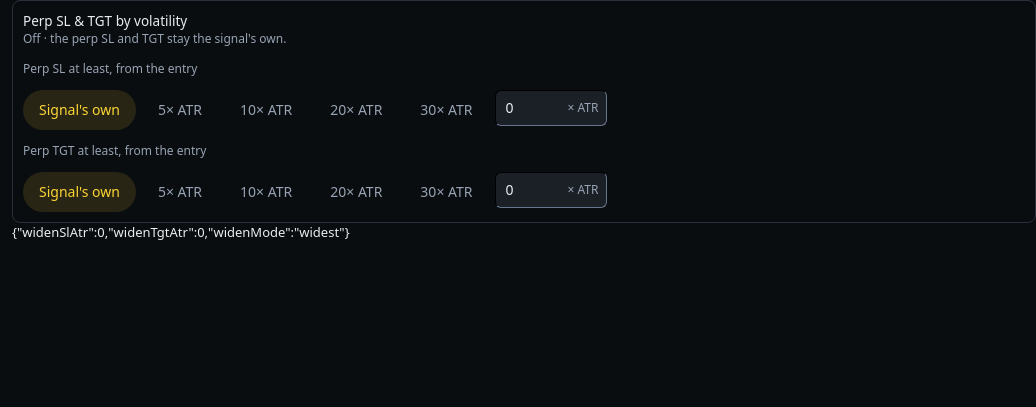
the perp widening editor › [critical] off: the signal's own; on, the least distance in ATRs, worked through quiet and busy -- kept at the widest
Check: the element "Perp SL & TGT by volatility" shows "Off · the perp SL and TGT stay the signal's own.", box [23,30,286,47]
Click the button "10× ATR" below "Perp SL at least, from the entry" at (266, 110), box [224,90,308,130]
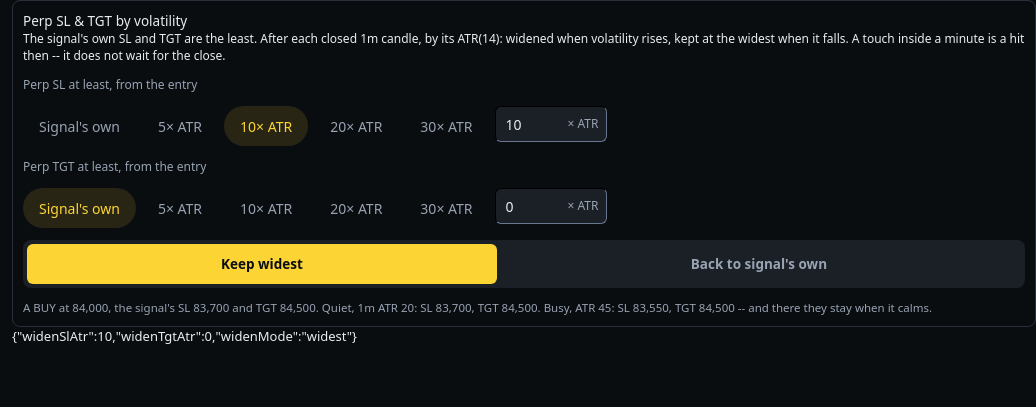
Click the radio button labelled "Back to signal's own" at (759, 264), box [497,244,1021,284]
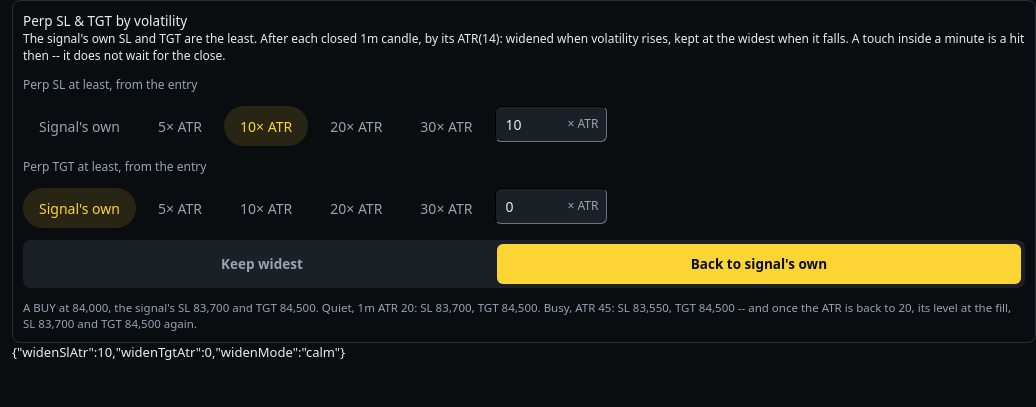
Replace the text in the field named "Perp SL & TGT by volatility: TGT, ATRs" with "150" at (550, 206), box [494,188,606,224]
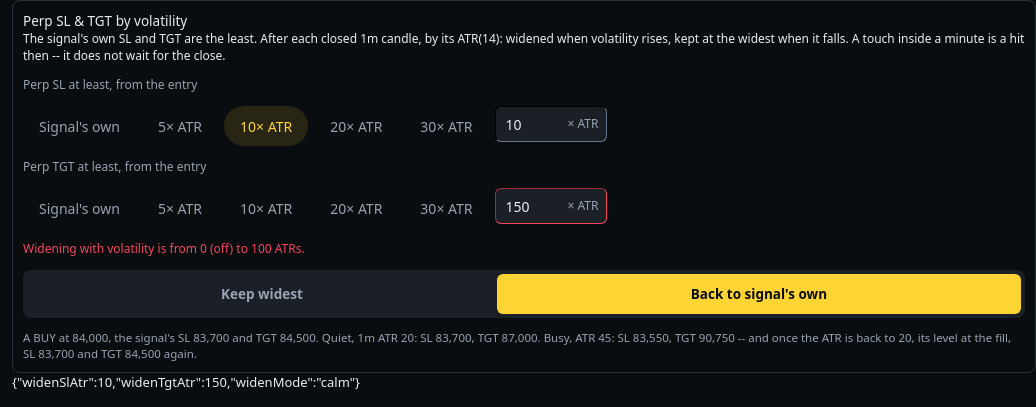
Check: the message reads "Widening with volatility is from 0 (off) to 100 ATRs.", box [23,240,305,257]
